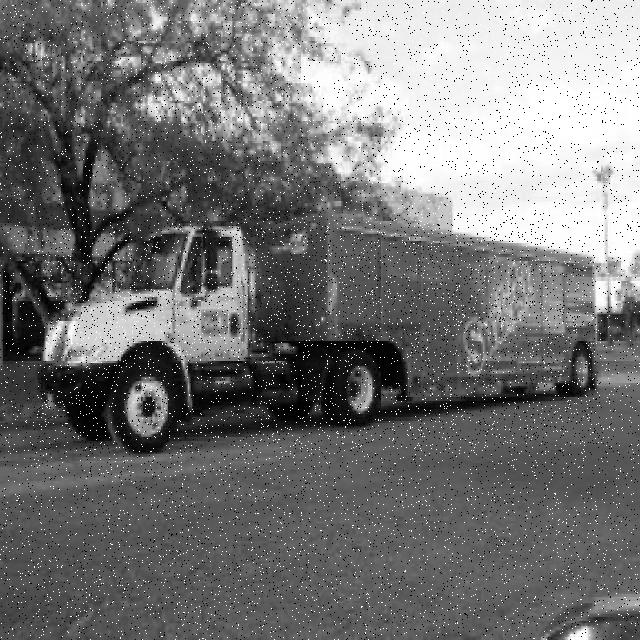Tractor Trailer: (37, 213, 601, 455)
